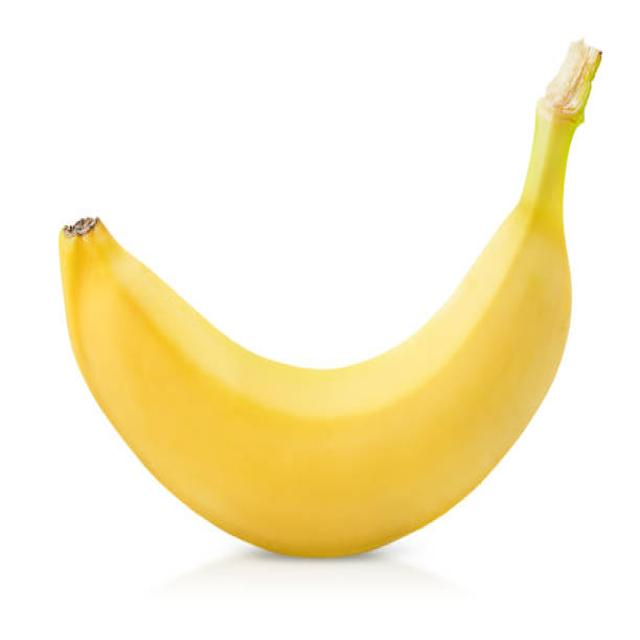Ripe: (54, 109, 579, 566)
